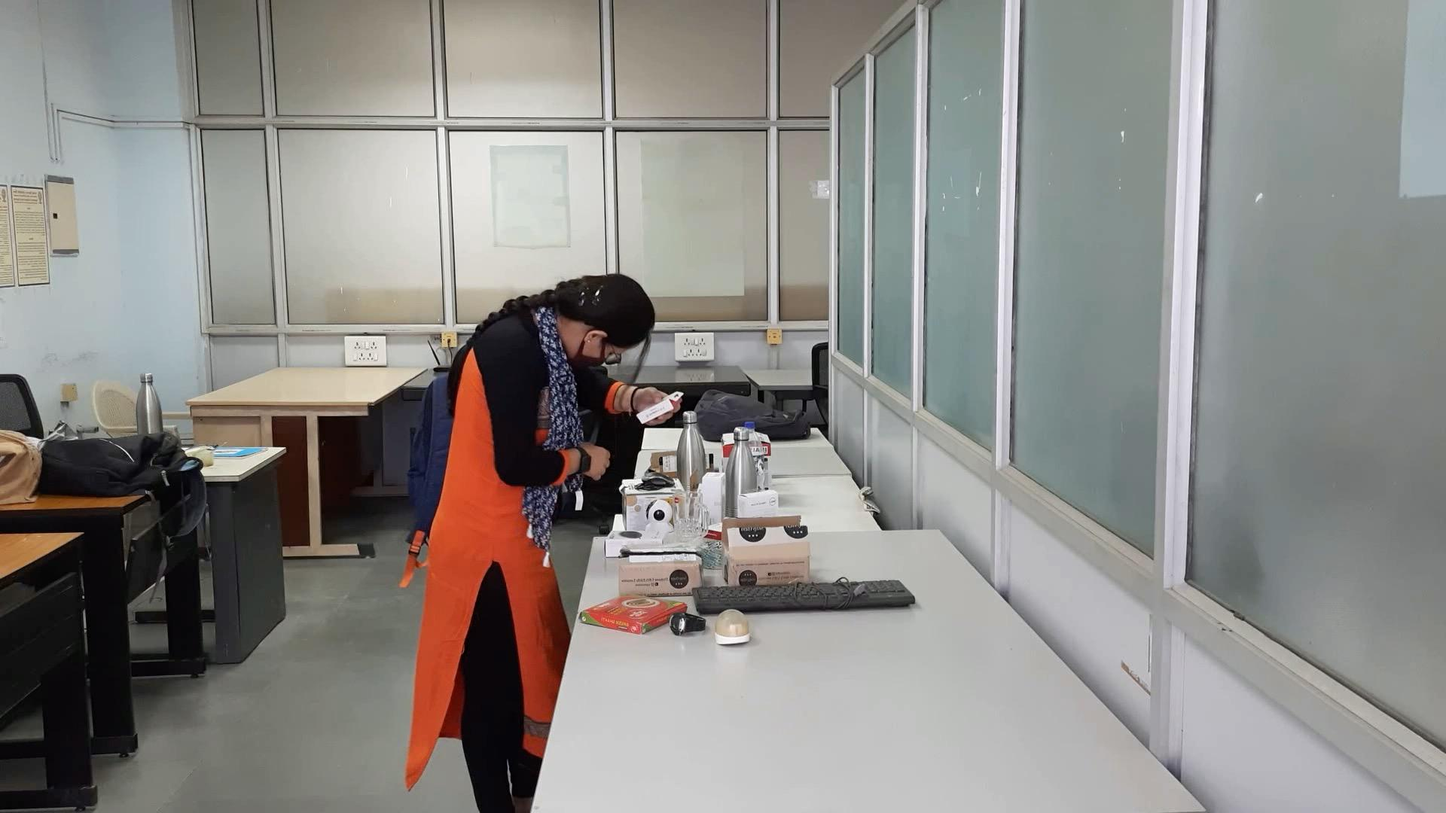shoplifting: (499, 377, 704, 536)
